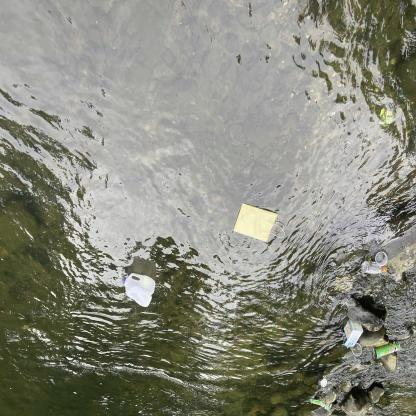Metal: (371, 338, 402, 362), (309, 396, 335, 413)
Plastic: (120, 267, 157, 314), (359, 251, 391, 276)
Trash: (232, 200, 288, 246)
